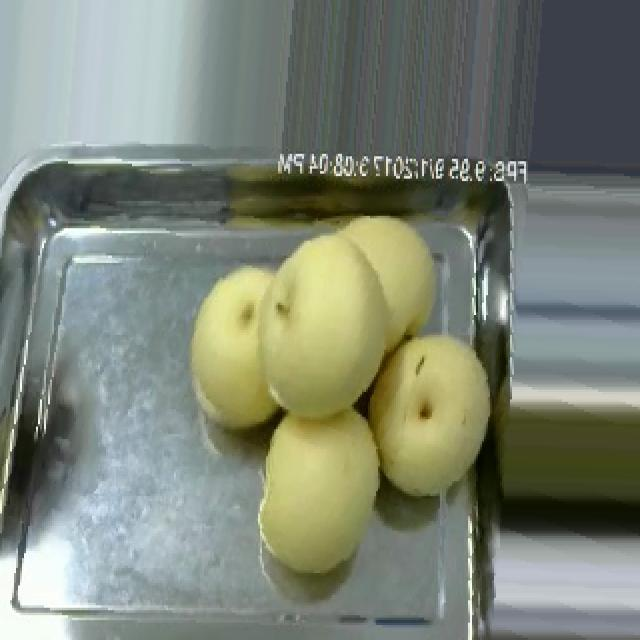Fruit: (174, 213, 458, 444), (354, 317, 502, 503), (248, 397, 392, 583)
